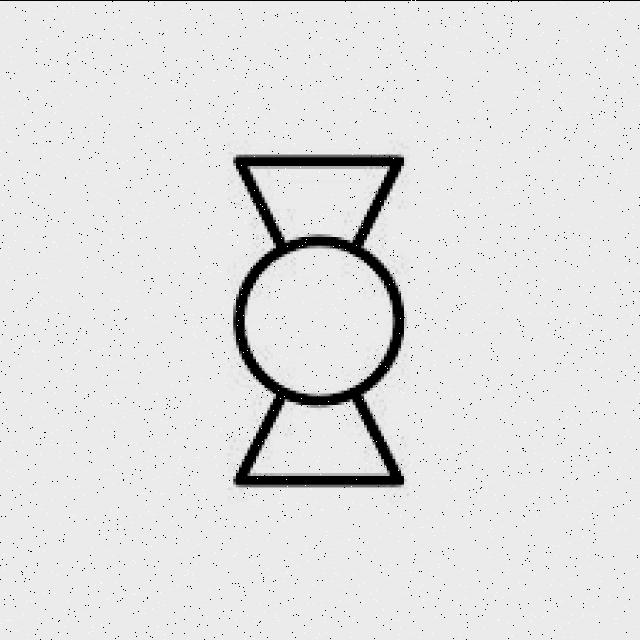Ball Valve: (160, 100, 486, 546)
